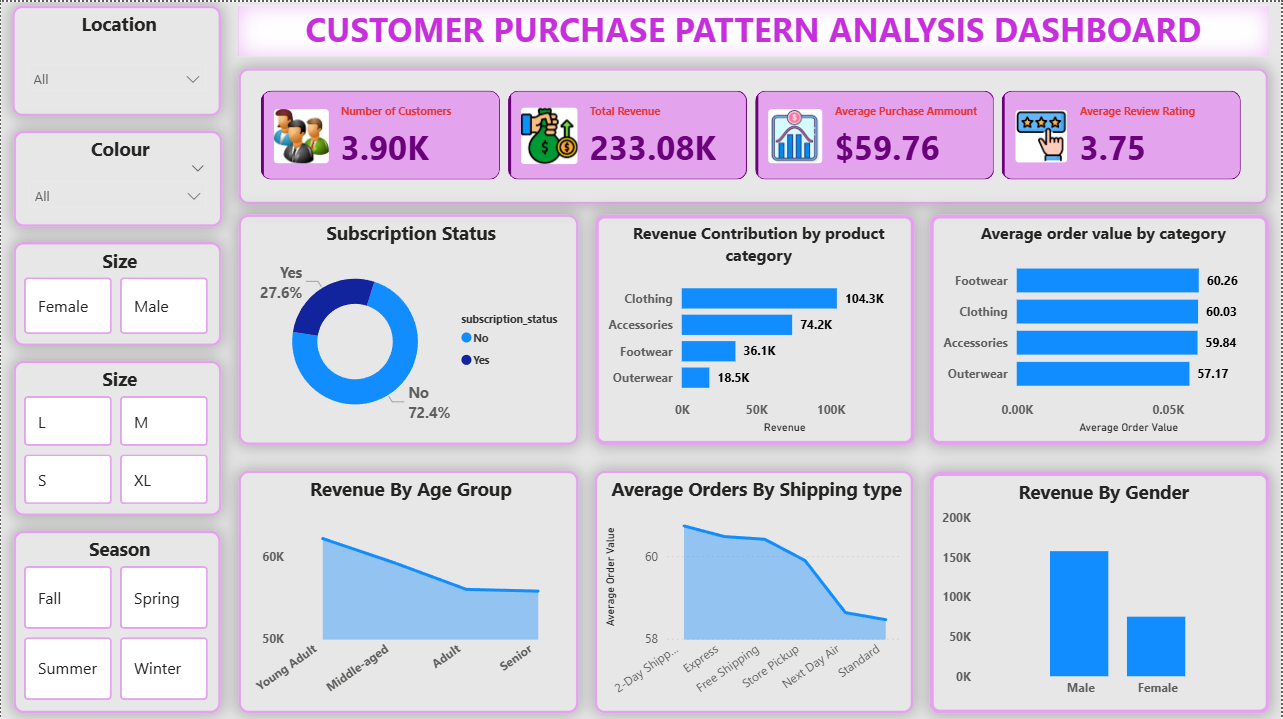

Layout of this report page (visuals, bound fields, positions):
{"tool":"powerbi","page":{"name":"Page 1","canvas":[1280,720],"ordinal":0},"visuals":[{"type":"cardVisual","fields":{"Data":["cleaned Customer Behaviour Data.Number of Customers","cleaned Customer Behaviour Data.Total Revenue","cleaned Customer Behaviour Data.Average Purchase Ammount","cleaned Customer Behaviour Data.Average Review Rating"]},"box":[238,66,1029.6,135.8],"z":0},{"type":"donutChart","title":"Subscription Status","fields":{"Y":["CountNonNull(cleaned Customer Behaviour Data.customer_id)"],"Category":["cleaned Customer Behaviour Data.subscription_status"]},"box":[237.4,212.7,340.3,230.5],"z":1000},{"type":"barChart","title":"Revenue Contribution by product category","fields":{"Category":["cleaned Customer Behaviour Data.category"],"Y":["Sum(cleaned Customer Behaviour Data.purchase_amount)"]},"box":[594.2,212.7,319.7,230.5],"z":2000},{"type":"clusteredBarChart","title":"Average order value by category","fields":{"Category":["cleaned Customer Behaviour Data.category"],"Y":["cleaned Customer Behaviour Data.Average Order Value"]},"box":[929,212.7,338.9,230.5],"z":3000},{"type":"stackedAreaChart","title":"Revenue By Age Group","fields":{"Category":["cleaned Customer Behaviour Data.age_group"],"Y":["Sum(cleaned Customer Behaviour Data.purchase_amount)"]},"box":[237.5,468.8,340,242.5],"z":4000},{"type":"stackedAreaChart","title":"Average Orders By  Shipping type","fields":{"Y":["cleaned Customer Behaviour Data.Average Order Value"],"Category":["cleaned Customer Behaviour Data.shipping_type"]},"box":[593.8,468.8,318.8,242.5],"z":5000},{"type":"columnChart","title":"Revenue By Gender","fields":{"Category":["cleaned Customer Behaviour Data.gender"],"Y":["Sum(cleaned Customer Behaviour Data.purchase_amount)"]},"box":[928.8,470,340,241.2],"z":6000},{"type":"advancedSlicerVisual","title":"Season","fields":{"Values":["cleaned Customer Behaviour Data.season"]},"box":[12.5,528.8,207.5,182.5],"z":7000},{"type":"advancedSlicerVisual","title":"Size","fields":{"Values":["cleaned Customer Behaviour Data.size"]},"box":[12.4,358.7,207.8,155.1],"z":8000},{"type":"advancedSlicerVisual","title":"Size","fields":{"Values":["cleaned Customer Behaviour Data.gender"]},"box":[12.2,239.9,207.8,103.9],"z":9000},{"type":"slicer","title":"Colour","fields":{"Values":["cleaned Customer Behaviour Data.color"]},"box":[12,129.2,208.6,95.7],"z":10000},{"type":"slicer","title":"Location","fields":{"Values":["cleaned Customer Behaviour Data.location"]},"box":[11.2,3.8,208.8,110],"z":11000},{"type":"textbox","title":"CUSTOMER PURCHASE PATTERN ANALYSIS DASHBOARD","box":[237.1,4.3,1030,50],"z":12000}]}

Visuals, with their boxes in screenshot pixels (x1, y1, x2, y2), scaled from the page's 1280x720 canvas onto the 1283x719 screenshot:
cardVisual - cleaned Customer Behaviour Data.Number of Customers x cleaned Customer Behaviour Data.Total Revenue: <region>239, 66, 1271, 202</region>
"Subscription Status" donutChart: <region>238, 212, 579, 443</region>
"Revenue Contribution by product category" barChart: <region>596, 212, 916, 443</region>
"Average order value by category" clusteredBarChart: <region>931, 212, 1271, 443</region>
"Revenue By Age Group" stackedAreaChart: <region>238, 468, 579, 710</region>
"Average Orders By  Shipping type" stackedAreaChart: <region>595, 468, 915, 710</region>
"Revenue By Gender" columnChart: <region>931, 469, 1272, 710</region>
"Season" advancedSlicerVisual: <region>13, 528, 221, 710</region>
"Size" advancedSlicerVisual: <region>12, 358, 221, 513</region>
"Size" advancedSlicerVisual: <region>12, 240, 221, 343</region>
"Colour" slicer: <region>12, 129, 221, 225</region>
"Location" slicer: <region>11, 4, 221, 114</region>
"CUSTOMER PURCHASE PATTERN ANALYSIS DASHBOARD" textbox: <region>238, 4, 1270, 54</region>
